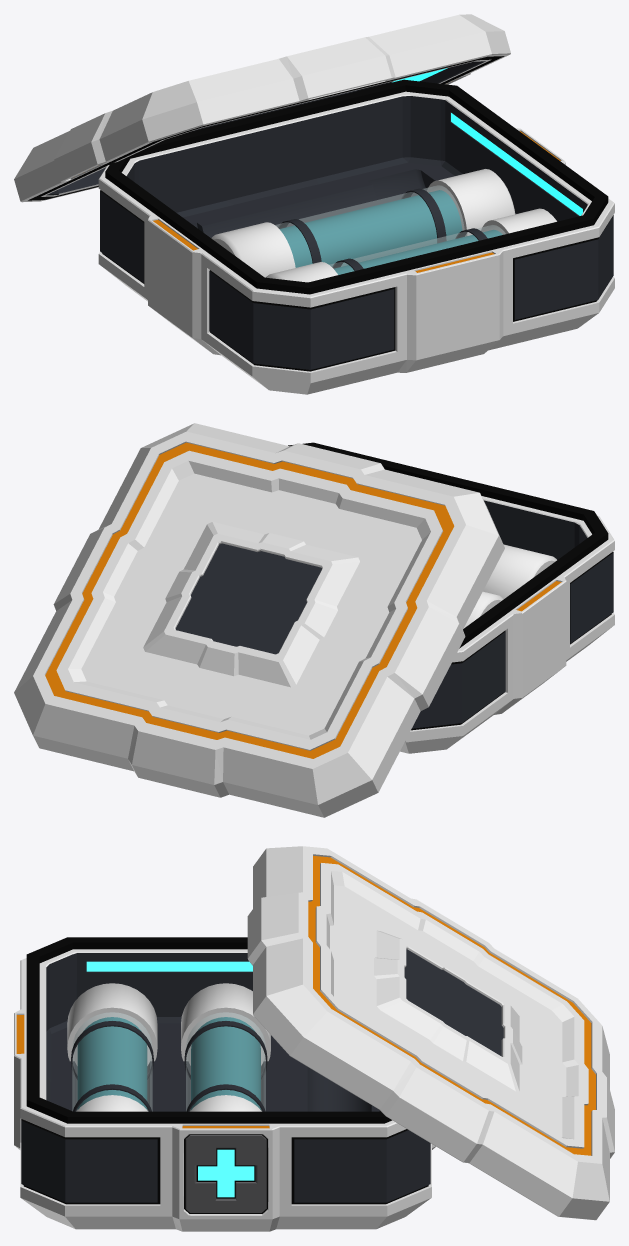
Rendered from SM_Sample_Kit.fbx.
The picture shows the model from 3 angles, top to bottom: view 1: azimuth 30°, elevation 25°; view 2: azimuth 150°, elevation 25°; view 3: azimuth 270°, elevation 25°; orthographic projection. The views are drawn at different scales.
Visible parts, largest first — view 1: SM_Sample_Kit; view 2: SM_Sample_Kit; view 3: SM_Sample_Kit.
Boxes of the visible parts, <box> form: SM_Sample_Kit: <box>14,14,614,394</box>; SM_Sample_Kit: <box>14,423,614,817</box>; SM_Sample_Kit: <box>14,846,614,1231</box>.
Bounding box in the file's own units: 14.06 × 8.06 × 18.52.
